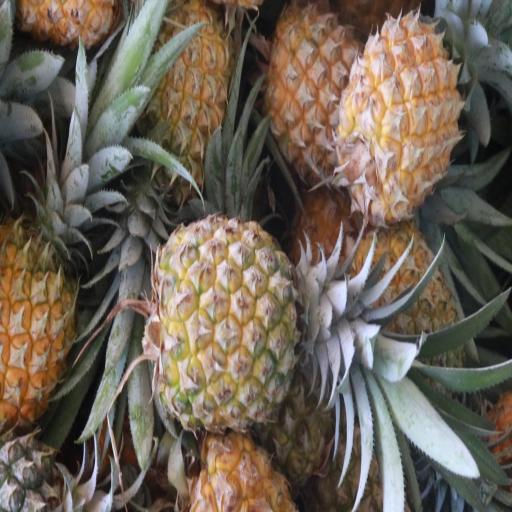------------------------------: (151, 222, 303, 429), (344, 230, 458, 400), (265, 4, 360, 184)
Pineapple - v8 v1: (342, 16, 461, 217), (144, 0, 228, 200), (0, 222, 80, 425)
